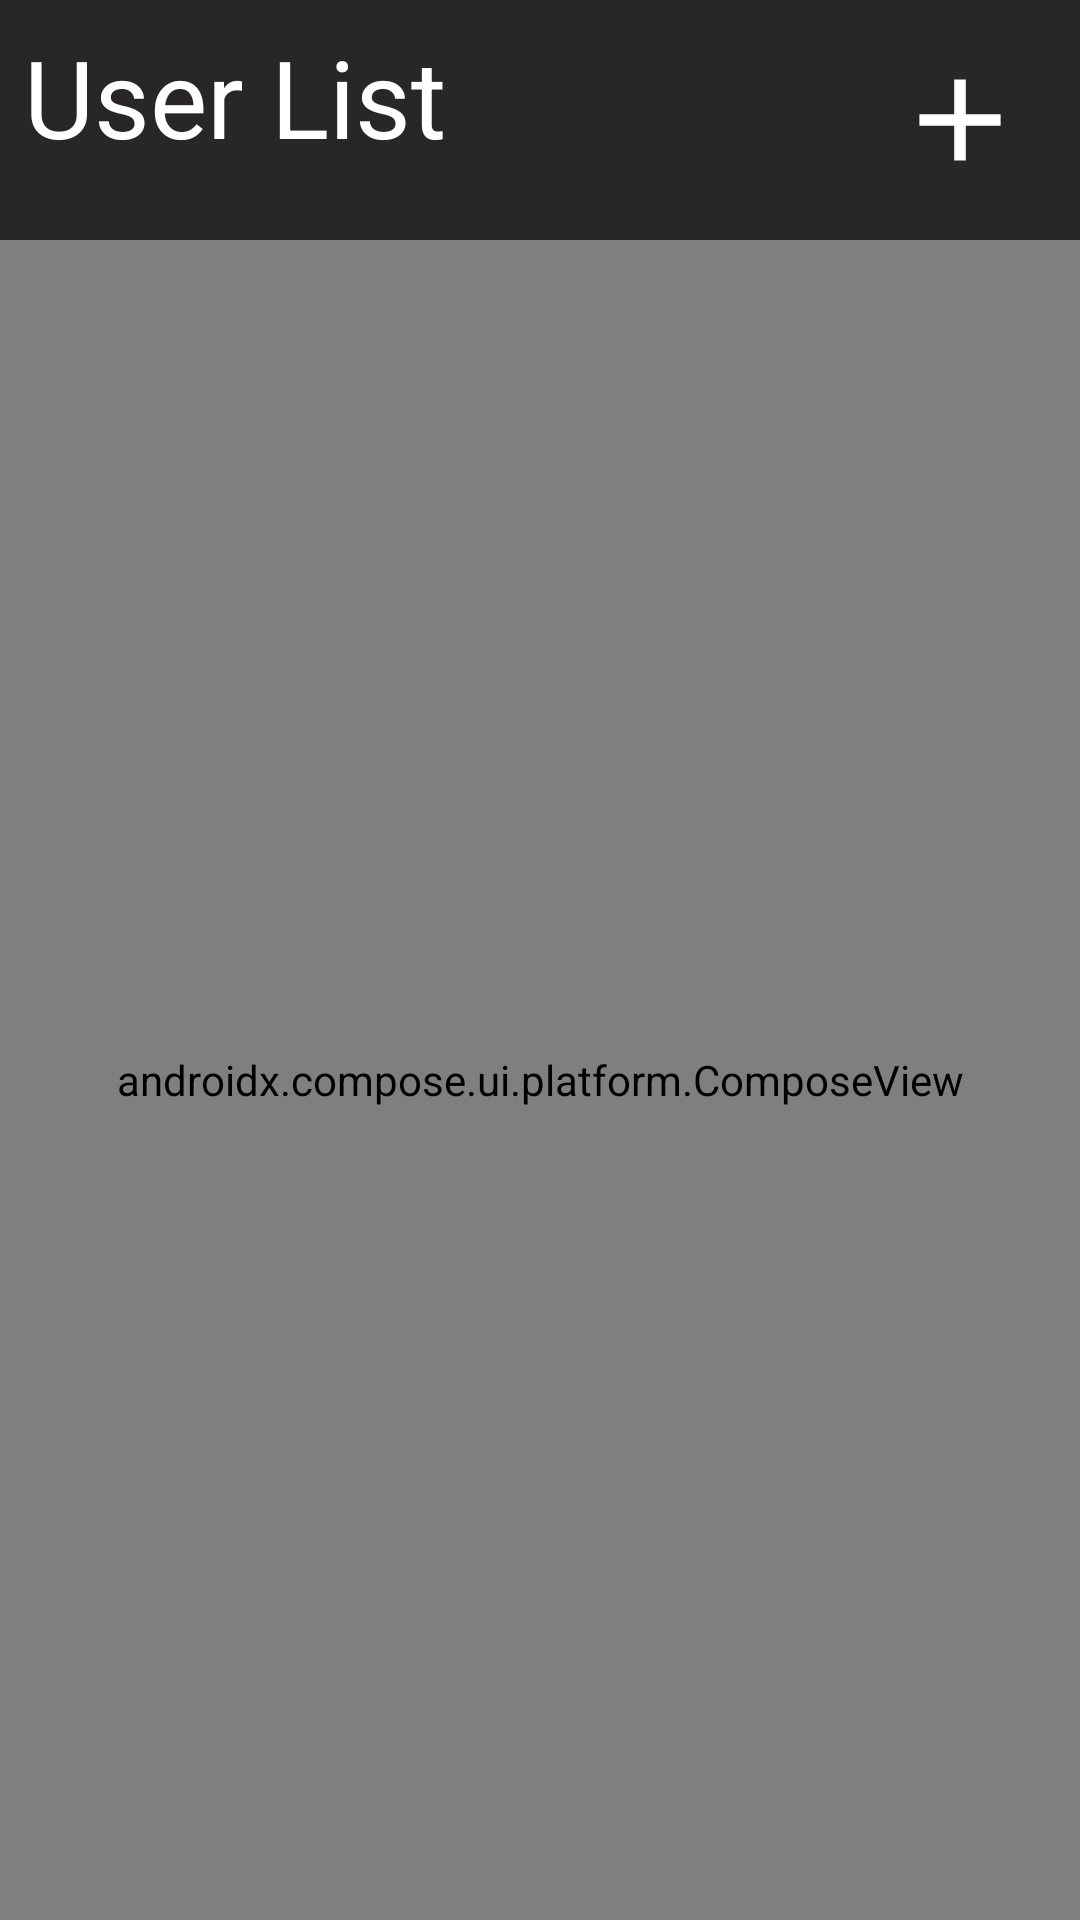

Screen size 1080px x 1920px. Icon name, then its center in pixels as point (x, y):
add: point (960, 120)
